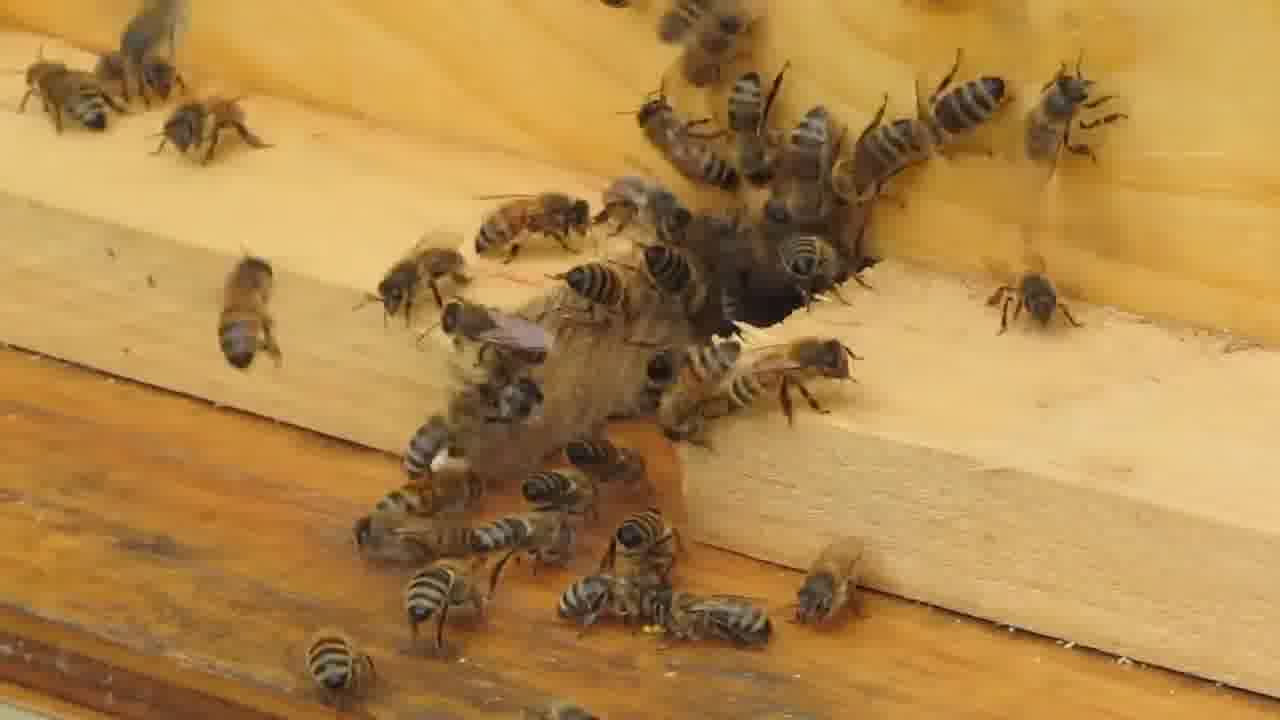pollen: (401, 385, 491, 484)
